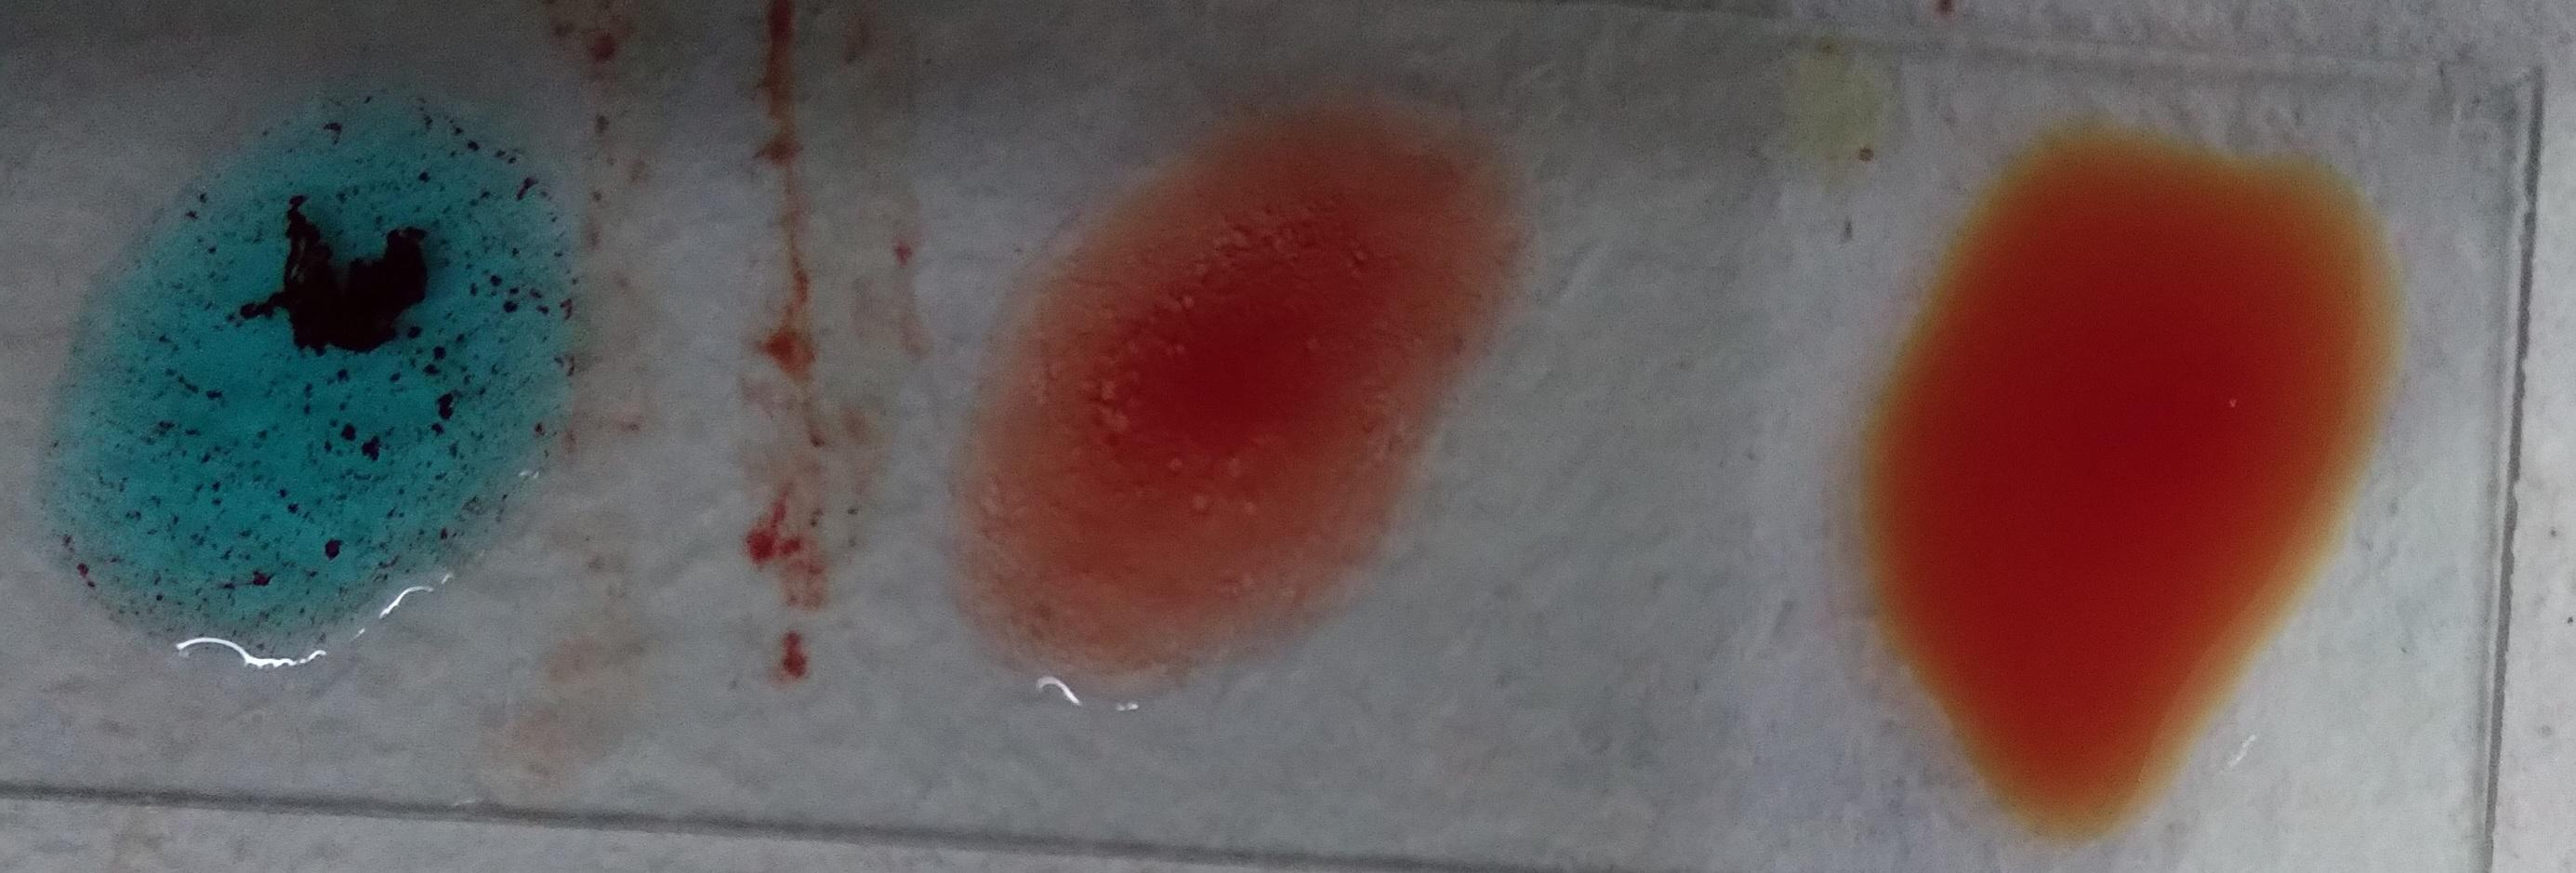A: (1985, 194, 2505, 784)
D: (1079, 212, 1580, 748)
